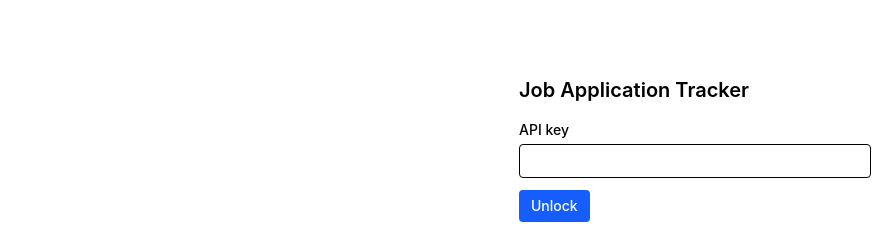
Test case: ApiKeyGate › unlocks and stores the key once the backend accepts it
Type "correct-key" into the password field labelled "API key" at (695, 161), box x1=519 y1=144 x2=871 y2=178
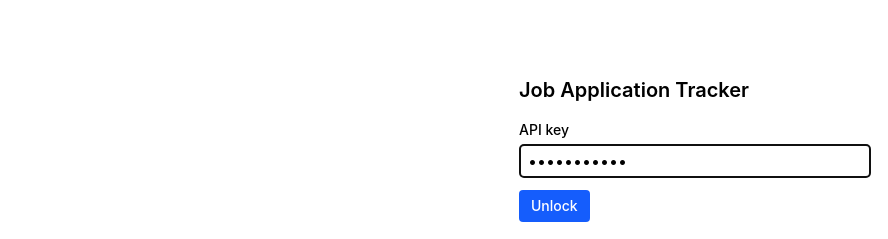
Click the button "Unlock" at (554, 206), box x1=519 y1=190 x2=590 y2=222
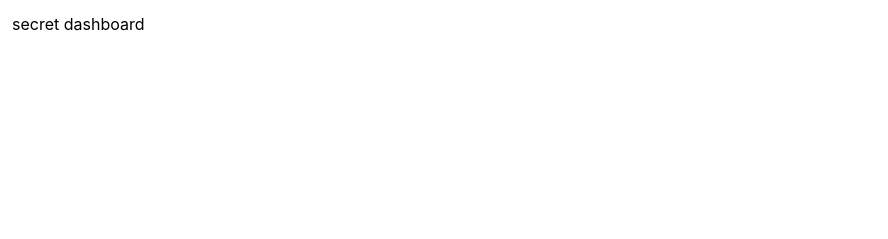
Result: the text "secret dashboard" is shown at x1=12 y1=14 x2=144 y2=34
